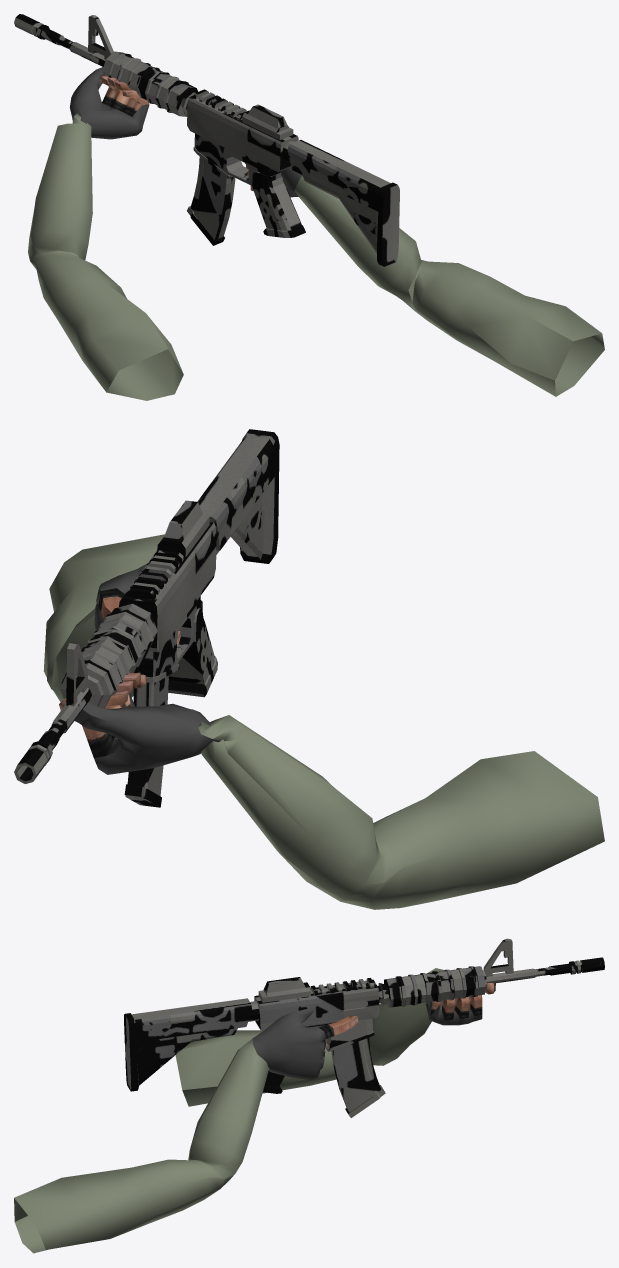
Rendered from gun_rifle.glb.
3 renders of one model, top to bottom at view 1: azimuth 30°, elevation 25°; view 2: azimuth 150°, elevation 25°; view 3: azimuth 270°, elevation 25°, orthographic. The views are drawn at different scales.
Parts seen in each view (by area): view 1: body_sleeve, body_QUATP, body_glove, mag_QUATP, body_ARMS; view 2: body_sleeve, body_QUATP, body_glove, mag_QUATP, body_ARMS; view 3: body_sleeve, body_QUATP, body_glove, mag_QUATP, body_ARMS.
Part boxes in pixels (box(x1,y1,x2,y2)): body_sleeve: box(28, 113, 604, 400); body_QUATP: box(14, 14, 399, 266); body_glove: box(69, 67, 302, 197); mag_QUATP: box(187, 156, 235, 245); body_ARMS: box(100, 75, 253, 191); body_sleeve: box(43, 534, 604, 909); body_QUATP: box(14, 429, 279, 783); body_glove: box(74, 563, 219, 774); mag_QUATP: box(124, 675, 168, 807); body_ARMS: box(59, 588, 180, 757); body_sleeve: box(14, 968, 444, 1253); body_QUATP: box(124, 938, 604, 1093); body_glove: box(252, 983, 495, 1079); mag_QUATP: box(331, 1038, 385, 1117); body_ARMS: box(319, 983, 493, 1060).
Bounding box in the file's own units: 77.63 × 41.62 × 103.
4 materials, 2 textured.
